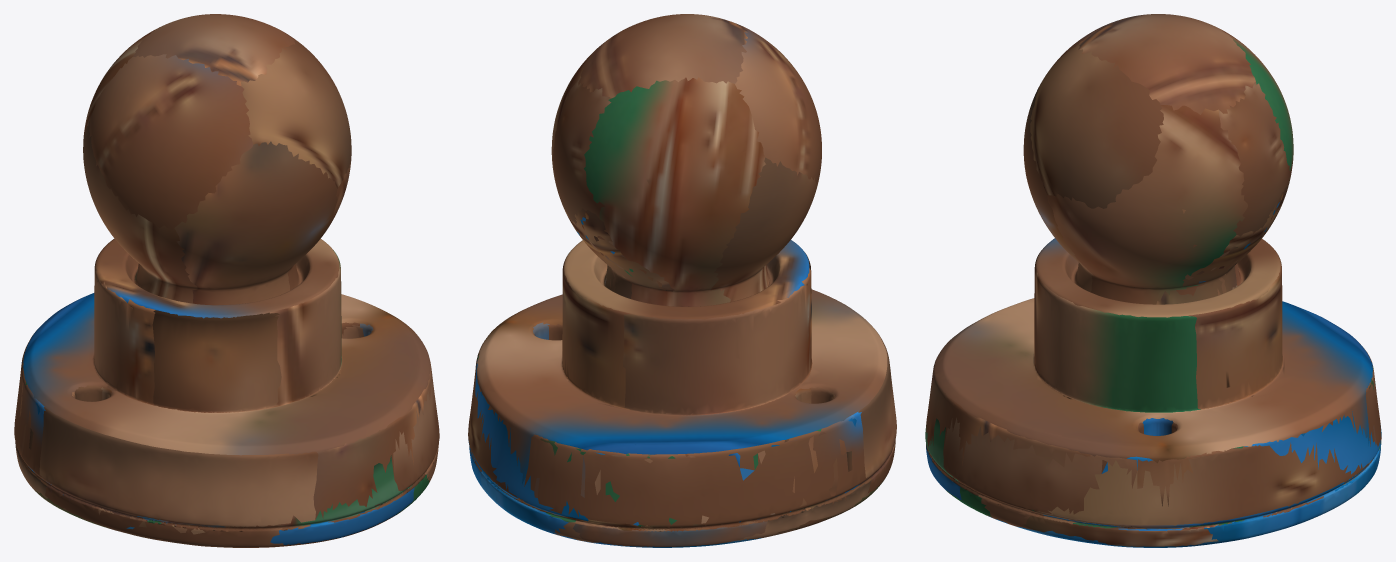
The model's file is red.mtl.obj.
3 renders of one model, left to right at view 1: azimuth 30°, elevation 25°; view 2: azimuth 150°, elevation 25°; view 3: azimuth 270°, elevation 25°, orthographic.
Parts seen in each view (by area): view 1: node_0.004; view 2: node_0.004; view 3: node_0.004.
Part boxes in pixels (x1,y1,x2,y2): node_0.004: (14, 14, 439, 547); node_0.004: (468, 14, 896, 547); node_0.004: (925, 14, 1381, 547).
Size of the model in its own units: 0.1879 by 0.2096 by 0.2009.
